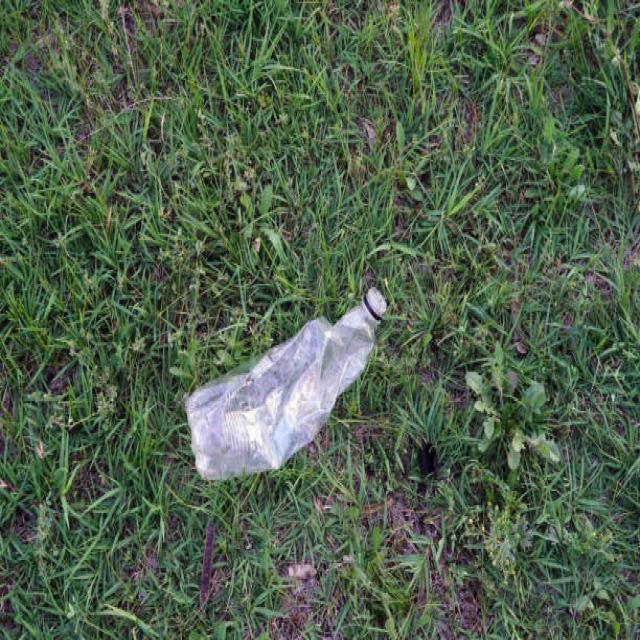plastic: (190, 290, 384, 478)
